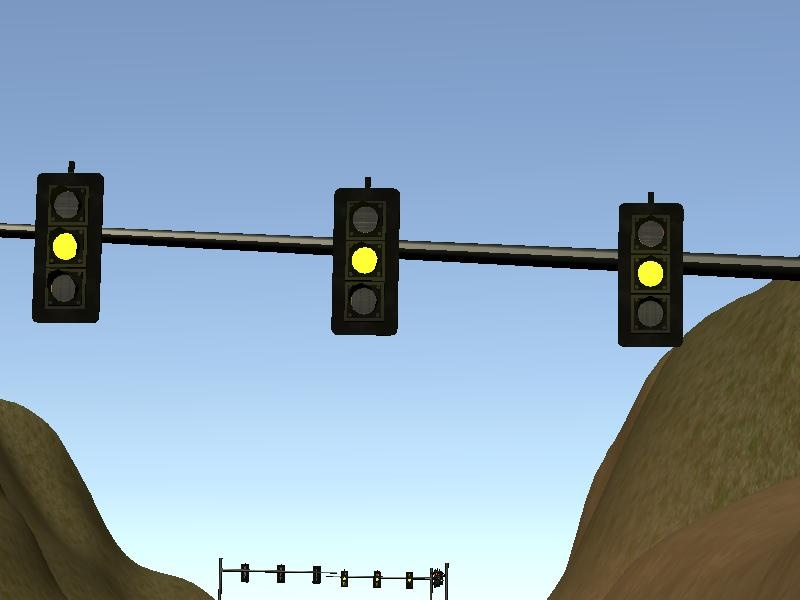yellow: (319, 168, 407, 348), (25, 152, 108, 334), (608, 182, 693, 355)
